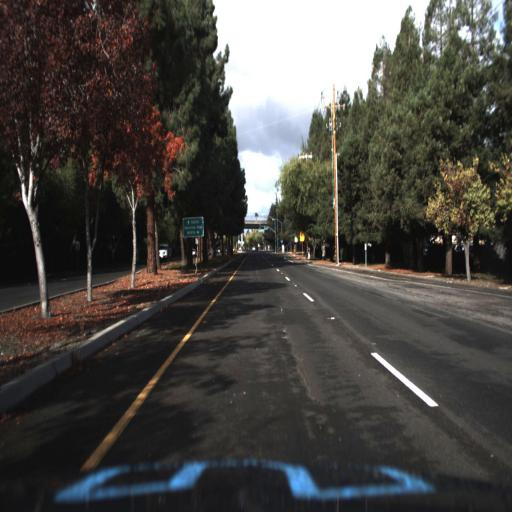car: (155, 244, 171, 267)
